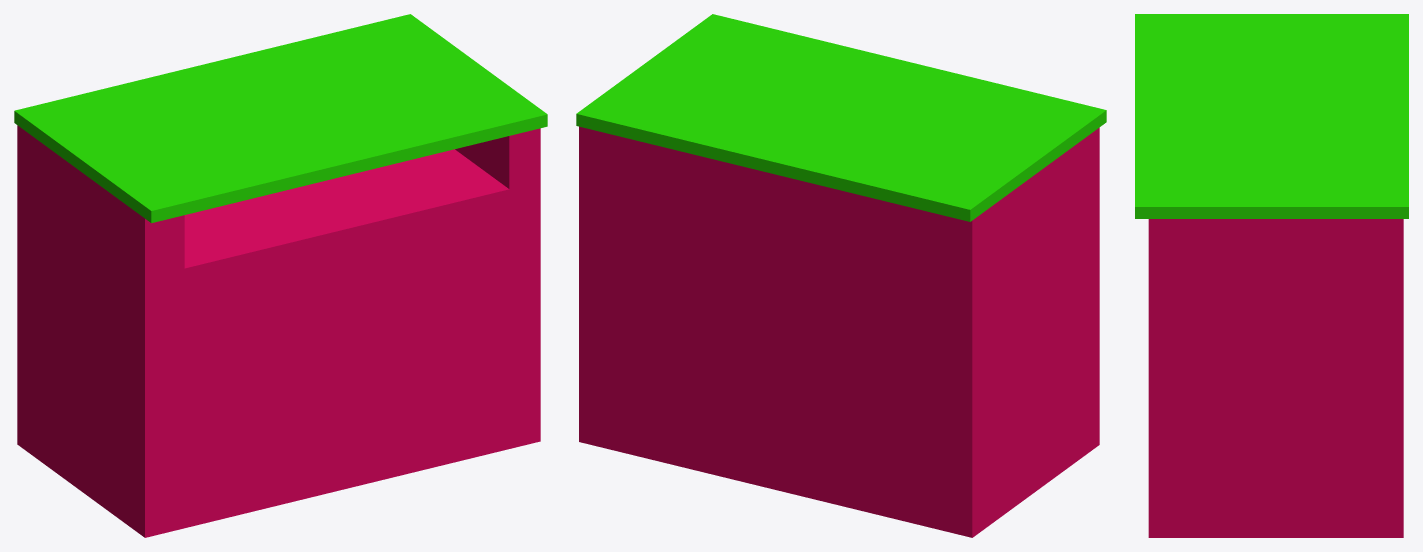
File: Kitchen_Cupboard_12_Lod0.fbx
The picture shows the model from 3 angles, left to right: view 1: azimuth 30°, elevation 25°; view 2: azimuth 150°, elevation 25°; view 3: azimuth 270°, elevation 25°; orthographic projection.
Visible parts, largest first — view 1: Kitchen_Cupboard_12_Lod0; view 2: Kitchen_Cupboard_12_Lod0; view 3: Kitchen_Cupboard_12_Lod0.
Part boxes in pixels (left/top/right/bottom): Kitchen_Cupboard_12_Lod0: left=14, top=14, right=547, bottom=537; Kitchen_Cupboard_12_Lod0: left=576, top=14, right=1106, bottom=537; Kitchen_Cupboard_12_Lod0: left=1135, top=14, right=1408, bottom=537.
Bounding box in the file's own units: 116 × 93.09 × 69.72.
